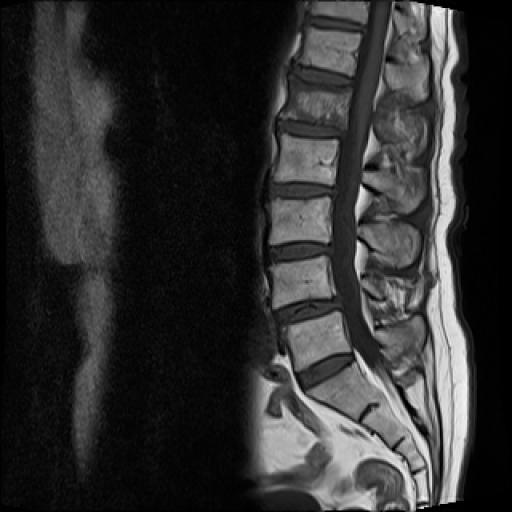L1: (279, 74, 355, 128)
L2: (276, 136, 338, 186)
L3: (269, 198, 331, 244)
L4: (271, 256, 335, 310)
L5: (287, 312, 351, 372)
S1: (306, 363, 380, 420)
